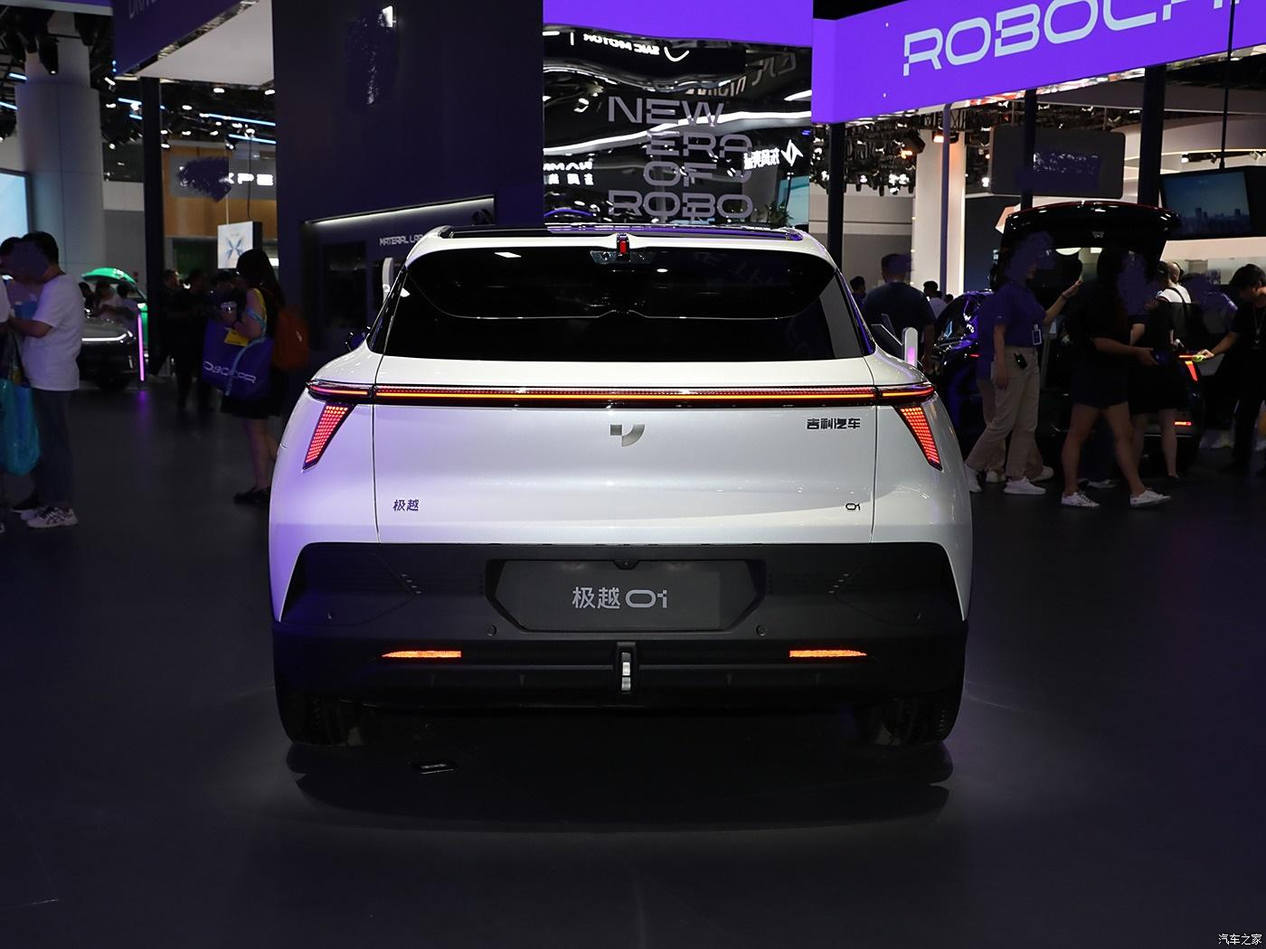JIYUE: (609, 423, 646, 447)
